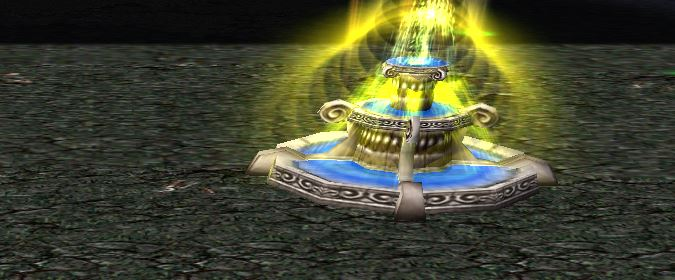sunwell: (254, 47, 564, 211)
